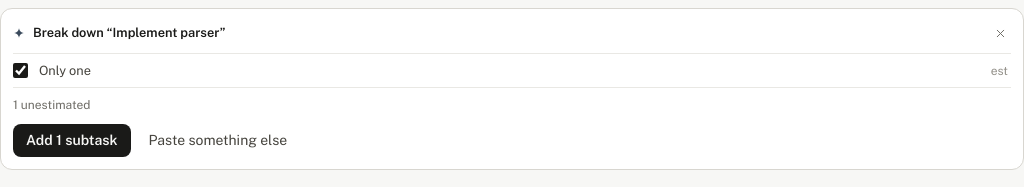
Test case: the breakdown proposal › creates nothing when every row has been dropped
This screenshot has width=1024, height=187.
Click the checkbox named "Only one" at x=20, y=71, box [13, 63, 28, 78]
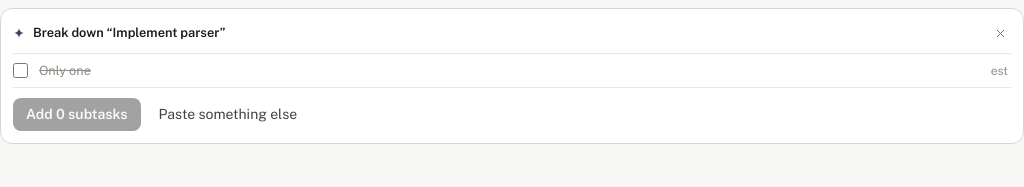
Now the button "Add 0 subtasks" is disabled, box [13, 98, 140, 131]
